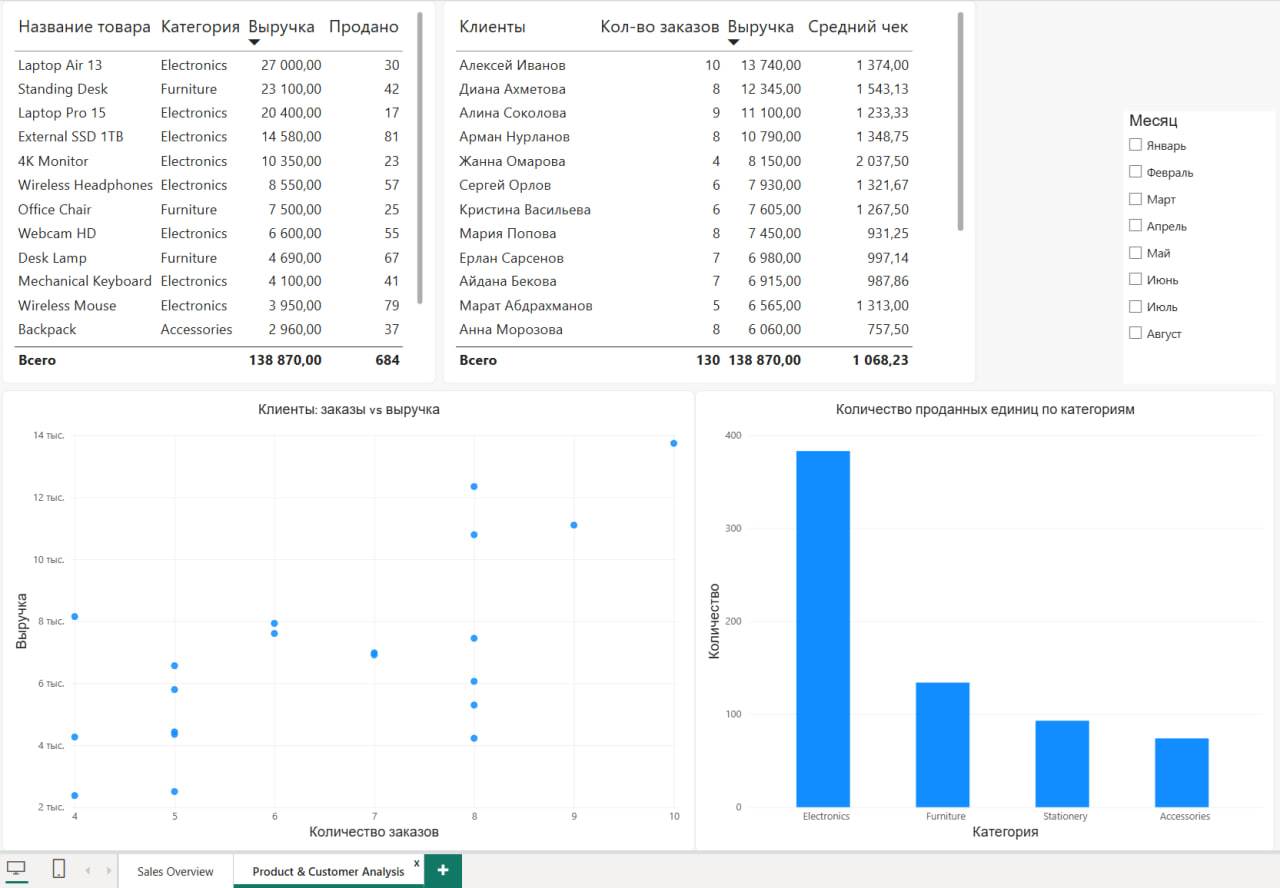

This screenshot's page, from the dashboard's own definition file:
{"tool":"powerbi","page":{"name":"Product & Customer Analysis","canvas":[1920,1200],"ordinal":1},"visuals":[{"type":"tableEx","fields":{"Values":["products.product_name","products.category","order_items.Total Revenue","order_items.Total_Units_Sold"]},"box":[9.5,0,611.1,540.3],"z":0},{"type":"tableEx","fields":{"Values":["customers.name","order_items.Total_Orders","order_items.Total Revenue","order_items.Customer_AOV"]},"box":[631.5,0,751.2,540.3],"z":1},{"type":"scatterChart","title":"Клиенты: заказы vs выручка","fields":{"Category":["customers.name"],"X":["order_items.Total_Orders"],"Y":["order_items.Total Revenue"]},"box":[9.5,549.8,977.1,650.5],"z":2},{"type":"clusteredColumnChart","title":"Количество проданных единиц по категориям","fields":{"Category":["products.category"],"Y":["order_items.Total_Units_Sold"]},"box":[986.7,549.8,817.9,650.5],"z":3},{"type":"slicer","fields":{"Values":["orders.Month_Name"]},"box":[1591,155.8,214.1,384.9],"z":4}]}

Visuals, with their boxes on the page's 1920x1200 design canvas (x1, y1, x2, y2). These are canvas units, not pixel positions in the 1280x888 screenshot, which may show the page scaled, cropped or inside an application window:
tableEx - products.product_name x products.category: (10, 0, 621, 540)
tableEx - customers.name x order_items.Total_Orders: (632, 0, 1383, 540)
"Клиенты: заказы vs выручка" scatterChart: (10, 550, 987, 1200)
"Количество проданных единиц по категориям" clusteredColumnChart: (987, 550, 1805, 1200)
slicer - orders.Month_Name: (1591, 156, 1805, 541)
